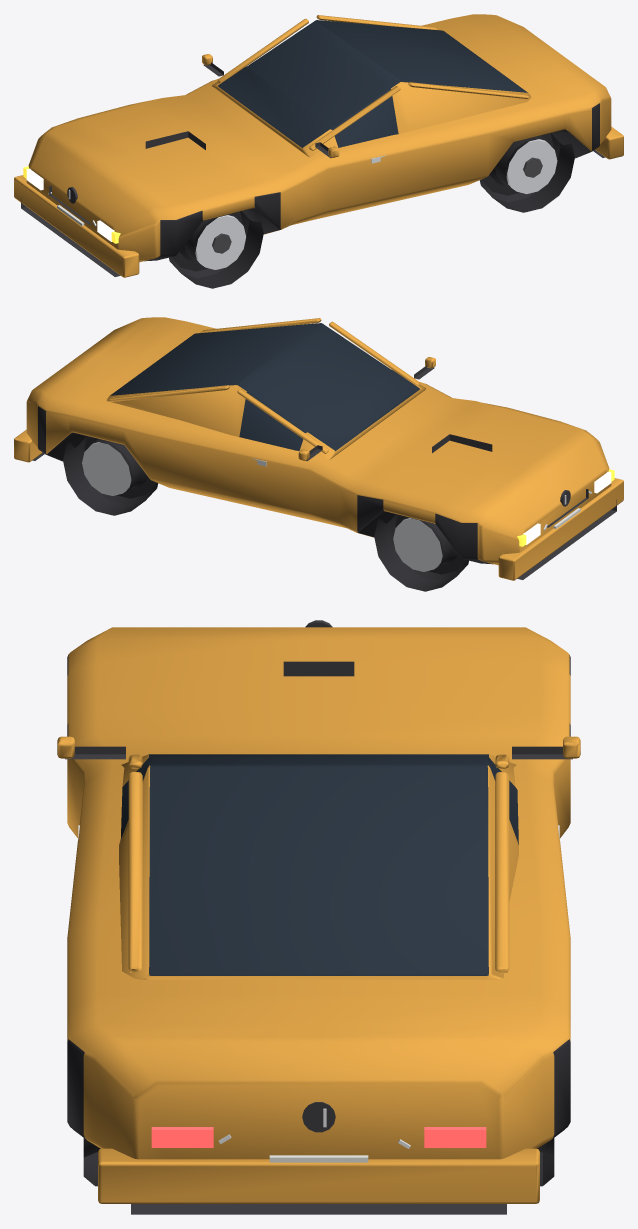
The model's file is car_slipstream.glb.
3 renders of one model, top to bottom at view 1: azimuth 30°, elevation 25°; view 2: azimuth 150°, elevation 25°; view 3: azimuth 270°, elevation 25°, orthographic. The views are drawn at different scales.
Bounding box in the file's own units: 1.9 × 0.5343 × 0.8575.
